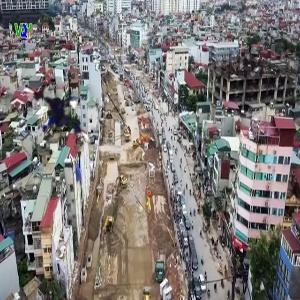drone: (7, 79, 99, 171)
